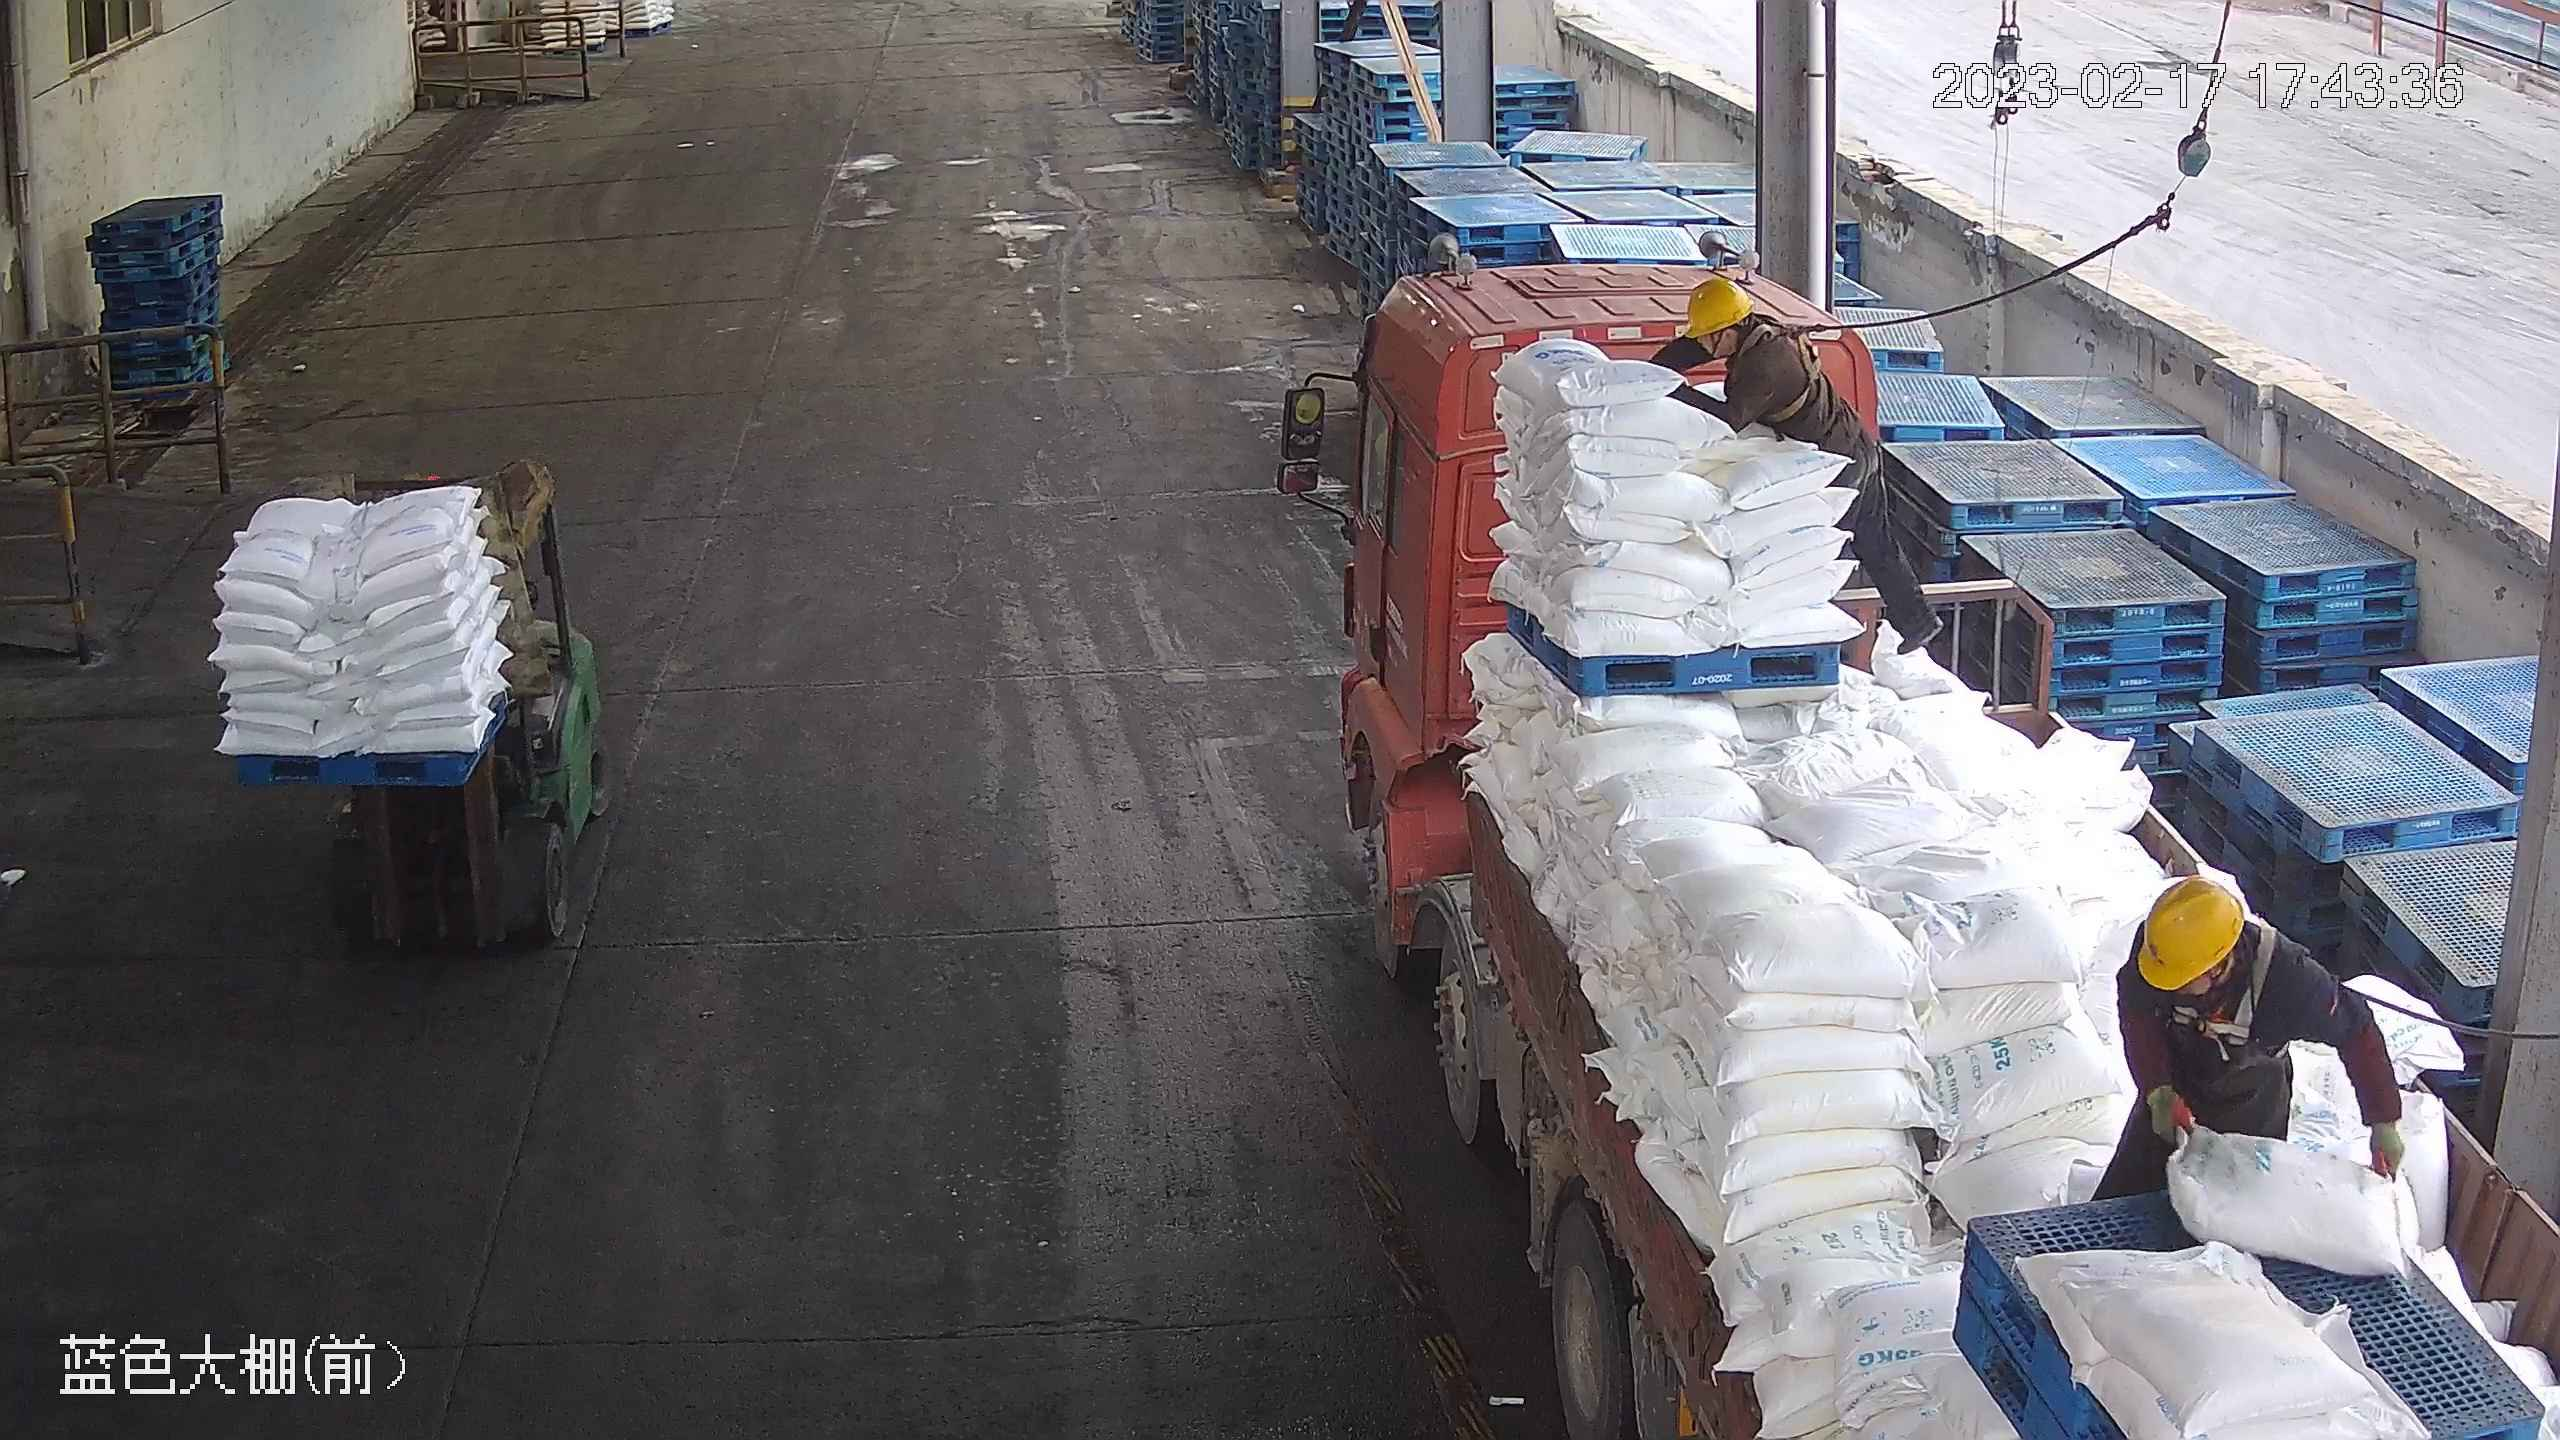belt: (2183, 927, 2293, 1073), (1737, 307, 1838, 424)
head: (2113, 879, 2312, 1071), (1671, 280, 1822, 416)
helmet: (2134, 880, 2246, 988), (1679, 279, 1756, 341)
people: (1648, 279, 1942, 655), (2091, 878, 2408, 1199)
truck: (1279, 249, 2560, 1440)
